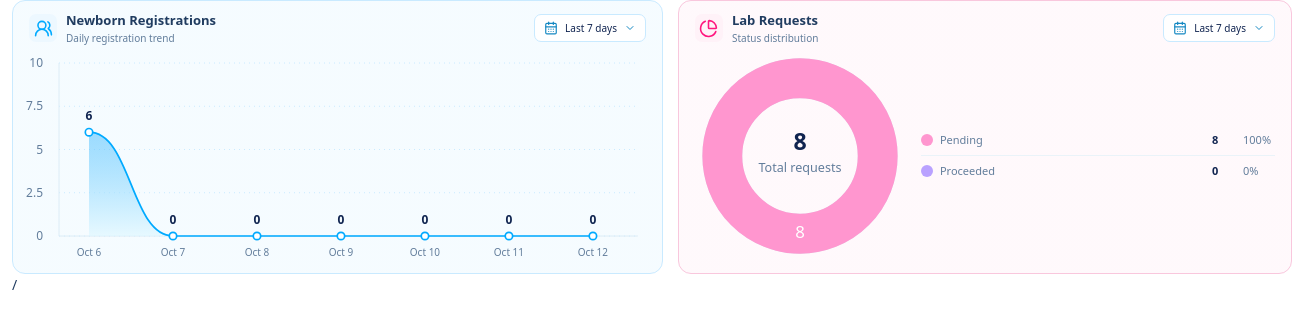
Test: filters each chart independently without navigating
Click the button with aria-label "Newborn Registrations range" at (590, 28), box [534, 14, 646, 42]
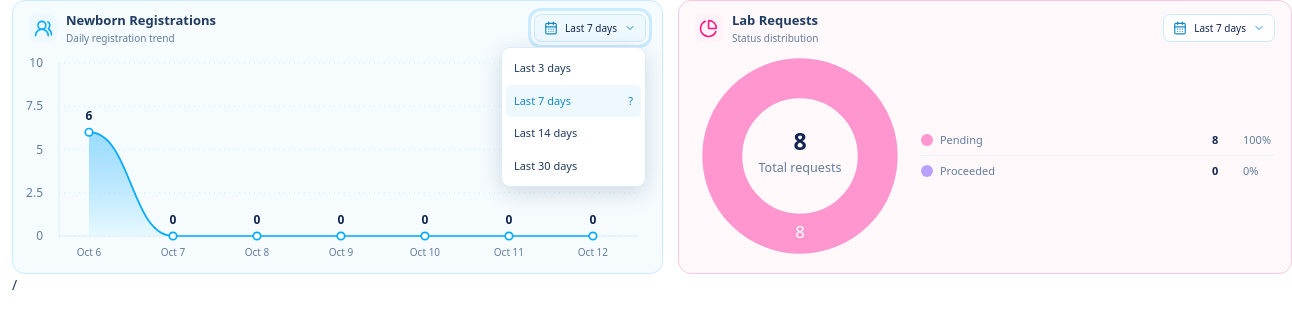
Click the menu item "Last 3 days" at (573, 69), box [506, 52, 641, 85]
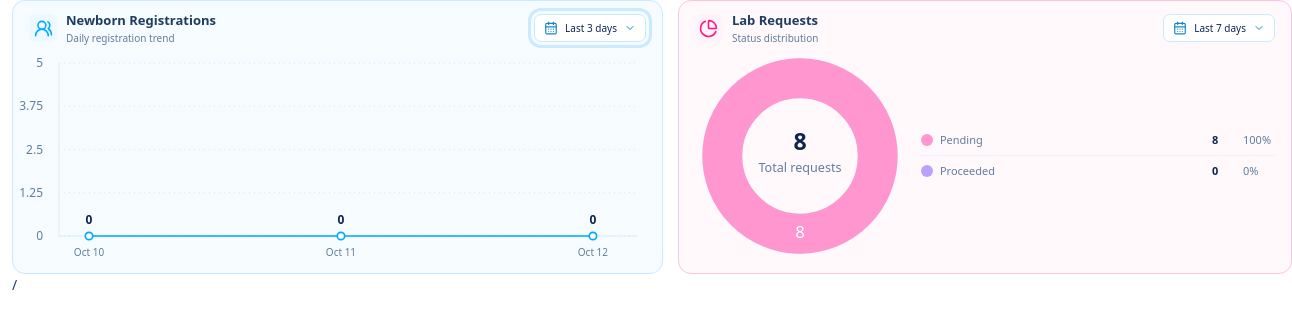
Check: the picture "8 8 Total requests" is shown, box [695, 51, 905, 261]
Click the button with aria-label "Lab Requests range" at (1219, 28), box [1163, 14, 1275, 42]
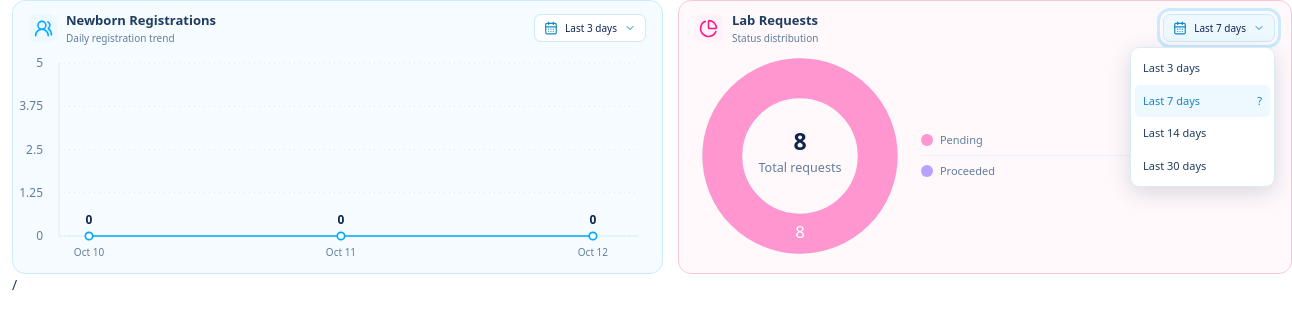
Click the menu item "Last 3 days" at (1202, 69), box [1135, 52, 1270, 85]
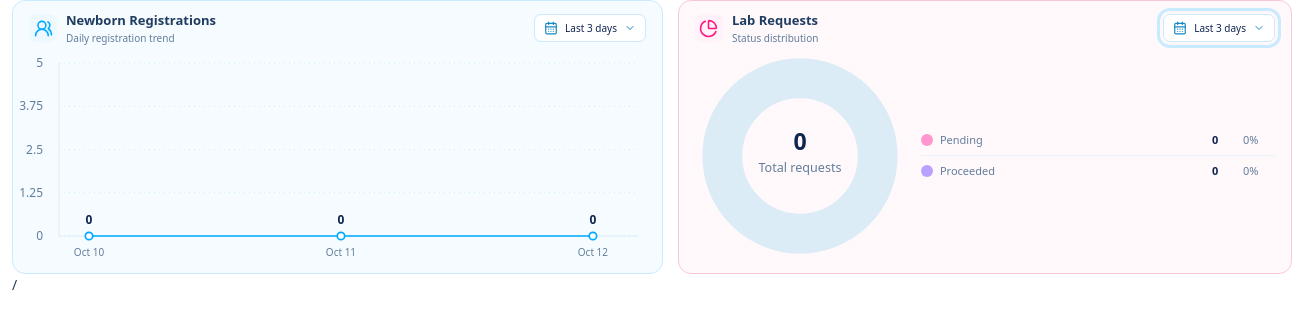
Check: the text with test id "location" reads "/", box [12, 275, 17, 294]
Check: the picture "0 Total requests" is shown, box [695, 51, 905, 261]
